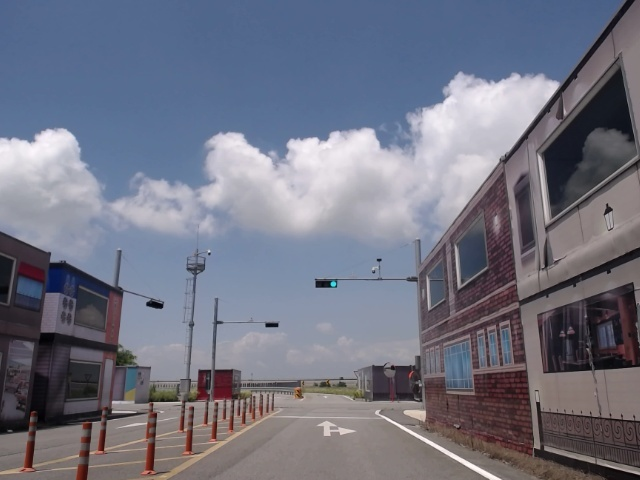green_3: (316, 280, 337, 288)
